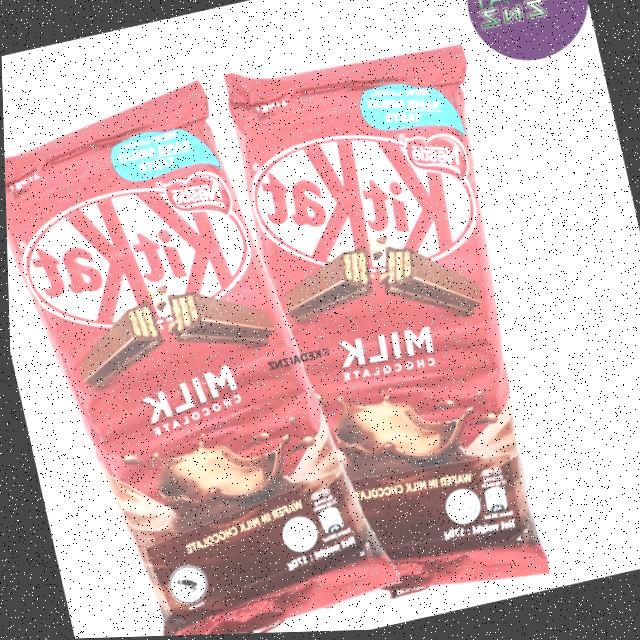kitkat: (135, 15, 578, 637), (2, 58, 398, 640)
